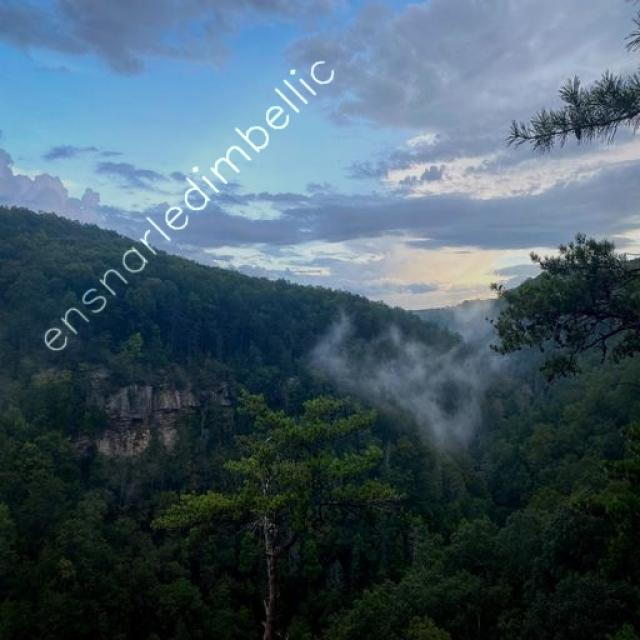watermark: (41, 36, 338, 365)
